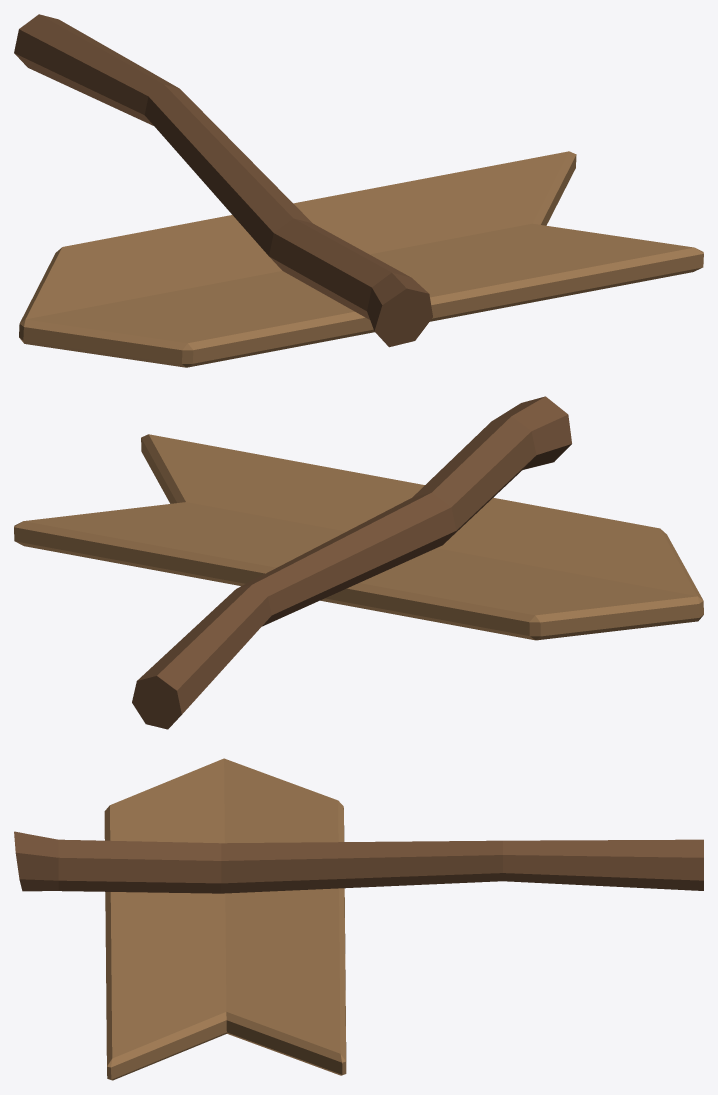
Rendered from Panel_05.fbx.
3 renders of one model, top to bottom at view 1: azimuth 30°, elevation 25°; view 2: azimuth 150°, elevation 25°; view 3: azimuth 270°, elevation 25°, orthographic. The views are drawn at different scales.
Visible parts, largest first — view 1: Poteau 1*1fleche gauche LOW Petit.001; view 2: Poteau 1*1fleche gauche LOW Petit.001; view 3: Poteau 1*1fleche gauche LOW Petit.001.
Part boxes in pixels (x1,y1,x2,y2): Poteau 1*1fleche gauche LOW Petit.001: (14,14,703,367); Poteau 1*1fleche gauche LOW Petit.001: (14,396,703,729); Poteau 1*1fleche gauche LOW Petit.001: (14,758,703,1080).
Size of the model in its own units: 75.66 by 12.63 by 79.74.
